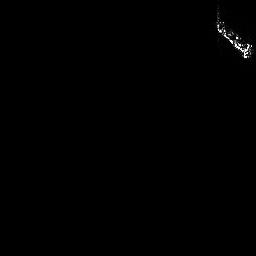ship: (214, 8, 252, 59)
